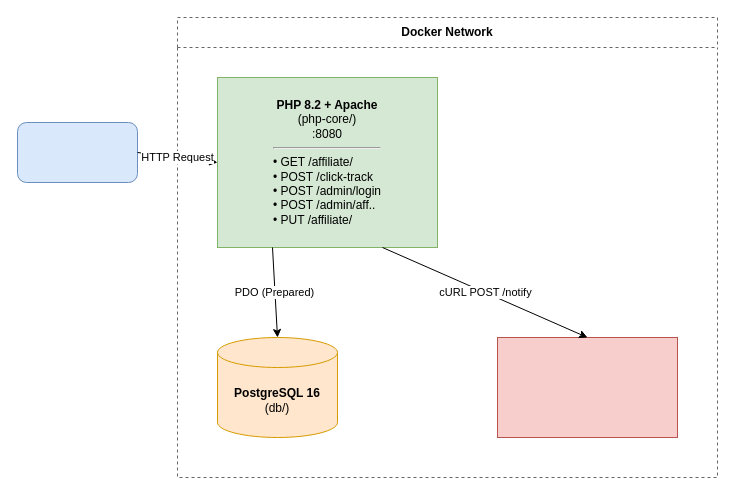
The diagram is 735 pixels wide and 495 high, and some of its shapes have lost their labels. Here are the shapes that lost their labels. From the top down, the box of each, then its label:
(16, 122, 138, 182): HTTP Client (Browser/Postman)
(496, 336, 678, 438): Node.js 18 (node-service/) :3000 Fire-and-forget Notifications
